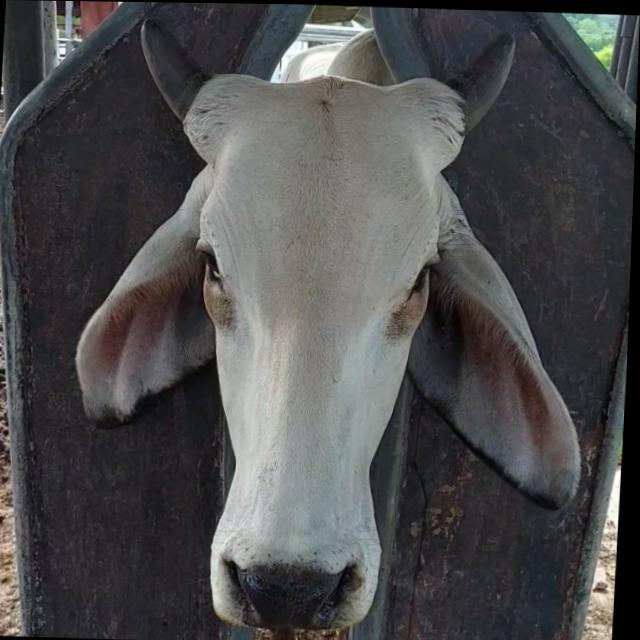cowFace: (181, 72, 442, 629)
